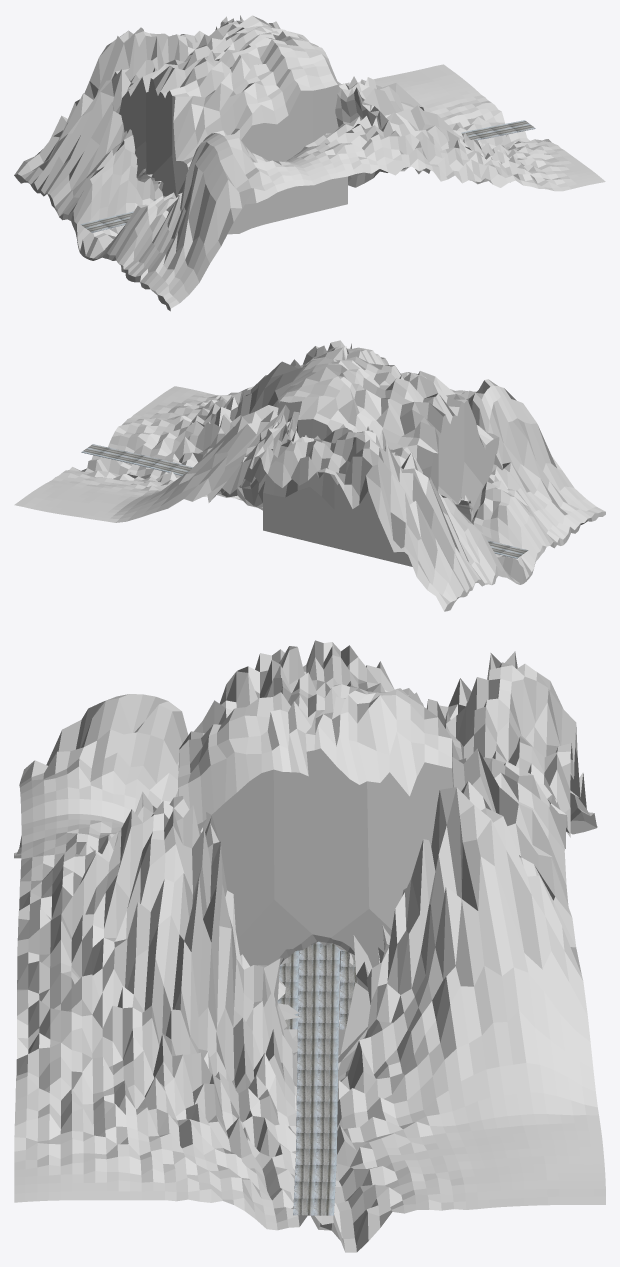
Rendered from scene_1_road3.fbx.
The picture shows the model from 3 angles, top to bottom: view 1: azimuth 30°, elevation 25°; view 2: azimuth 150°, elevation 25°; view 3: azimuth 270°, elevation 25°; orthographic projection. The views are drawn at different scales.
Visible parts, largest first — view 1: Plane.002, Cube, road_8x_10y_03z.002; view 2: Plane.002, Cube, road_8x_10y_03z.002; view 3: Plane.002, Cube, road_8x_10y_03z.002, road_8x_10y_03z.004, road_8x_10y_03z.005.
Boxes of the visible parts, box(x1,y1,x2,y2) form: Plane.002: box(14, 15, 605, 311); Cube: box(119, 15, 347, 234); road_8x_10y_03z.002: box(80, 120, 535, 232); Plane.002: box(14, 340, 605, 611); Cube: box(263, 346, 499, 566); road_8x_10y_03z.002: box(81, 444, 528, 558); Plane.002: box(14, 651, 605, 1252); Cube: box(178, 640, 463, 967); road_8x_10y_03z.002: box(293, 941, 339, 1215); road_8x_10y_03z.004: box(277, 950, 298, 1029); road_8x_10y_03z.005: box(339, 949, 357, 1029).
Bounding box in the file's own units: 25110 × 10181 × 15901.
